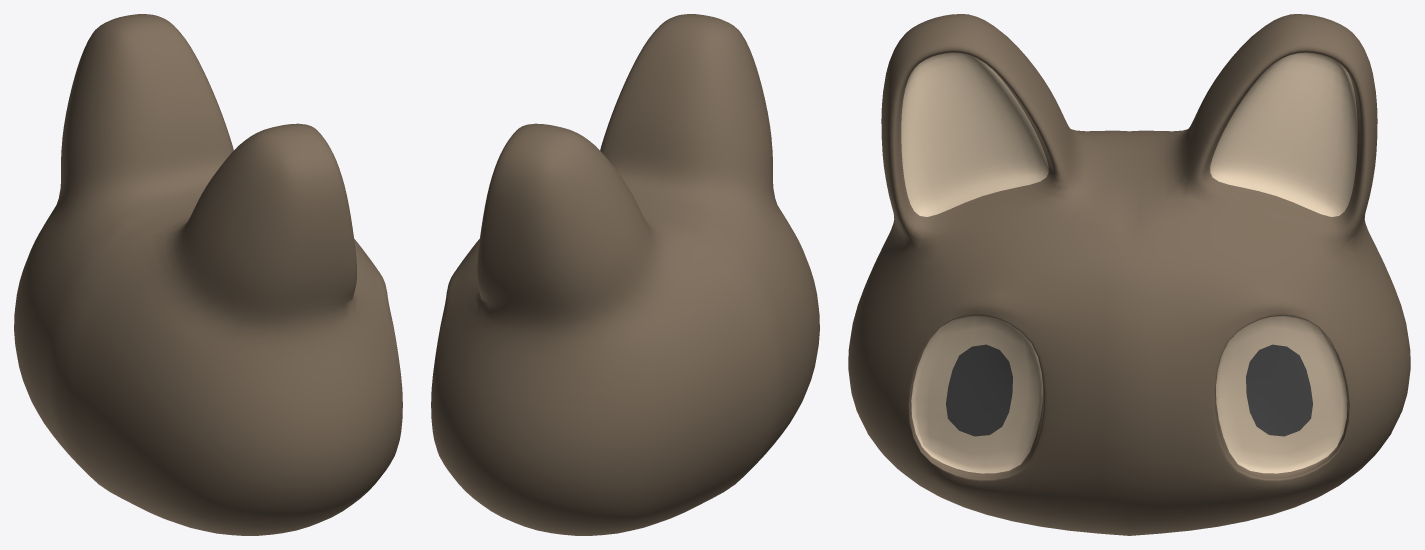
The model's file is lilCat_V2.fbx.
3 renders of one model, left to right at view 1: azimuth 30°, elevation 25°; view 2: azimuth 150°, elevation 25°; view 3: azimuth 270°, elevation 25°, orthographic. The views are drawn at different scales.
Parts seen in each view (by area): view 1: lilCat; view 2: lilCat; view 3: lilCat.
Boxes of the visible parts, box(x1,y1,x2,y2) form: lilCat: box(14, 14, 402, 535); lilCat: box(431, 14, 819, 535); lilCat: box(848, 14, 1410, 535).
Bounding box in the file's own units: 163 × 218 × 225.
